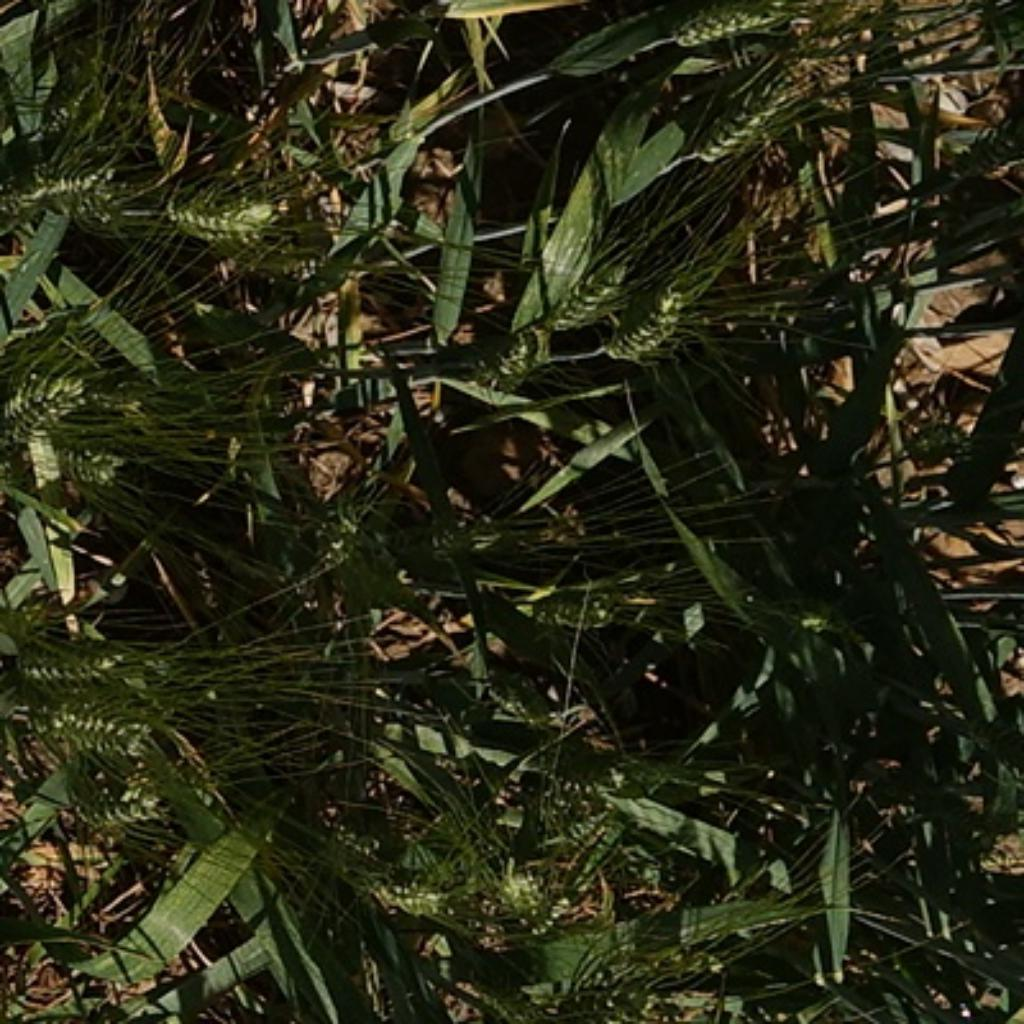0-0: (673, 56, 829, 176), (504, 567, 680, 655), (0, 332, 125, 440), (555, 944, 721, 1024), (10, 686, 174, 762), (601, 271, 709, 384), (0, 148, 145, 232), (524, 250, 640, 350), (0, 629, 168, 696), (376, 837, 491, 924), (38, 417, 156, 501), (161, 171, 279, 253), (356, 496, 500, 562), (64, 773, 189, 849), (460, 312, 563, 389), (660, 0, 788, 48), (526, 779, 610, 851), (486, 857, 558, 926)
